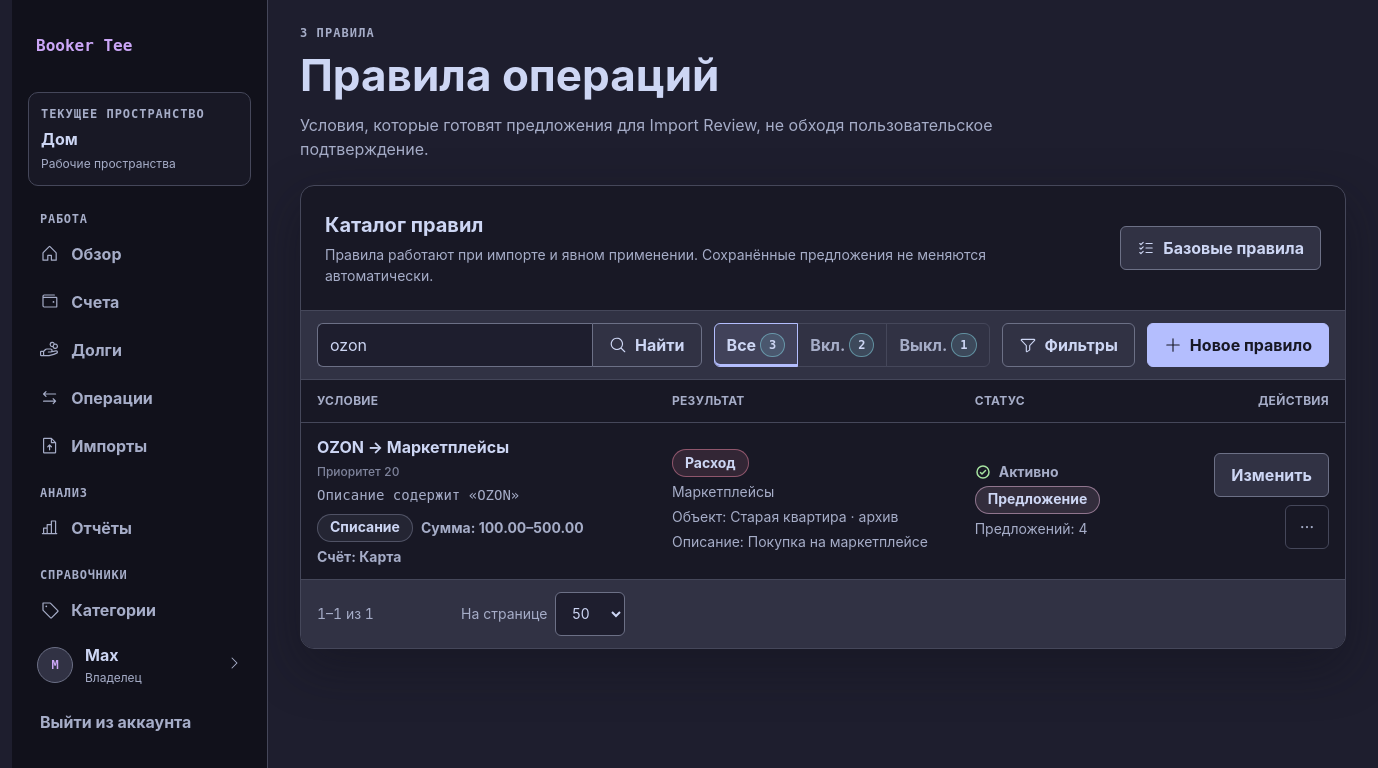
TransactionRulesPage › disables future matching, preserves existing suggestions and keeps list state
Click the button named "Ещё действия" at [1307, 527], box [1285, 505, 1329, 549]
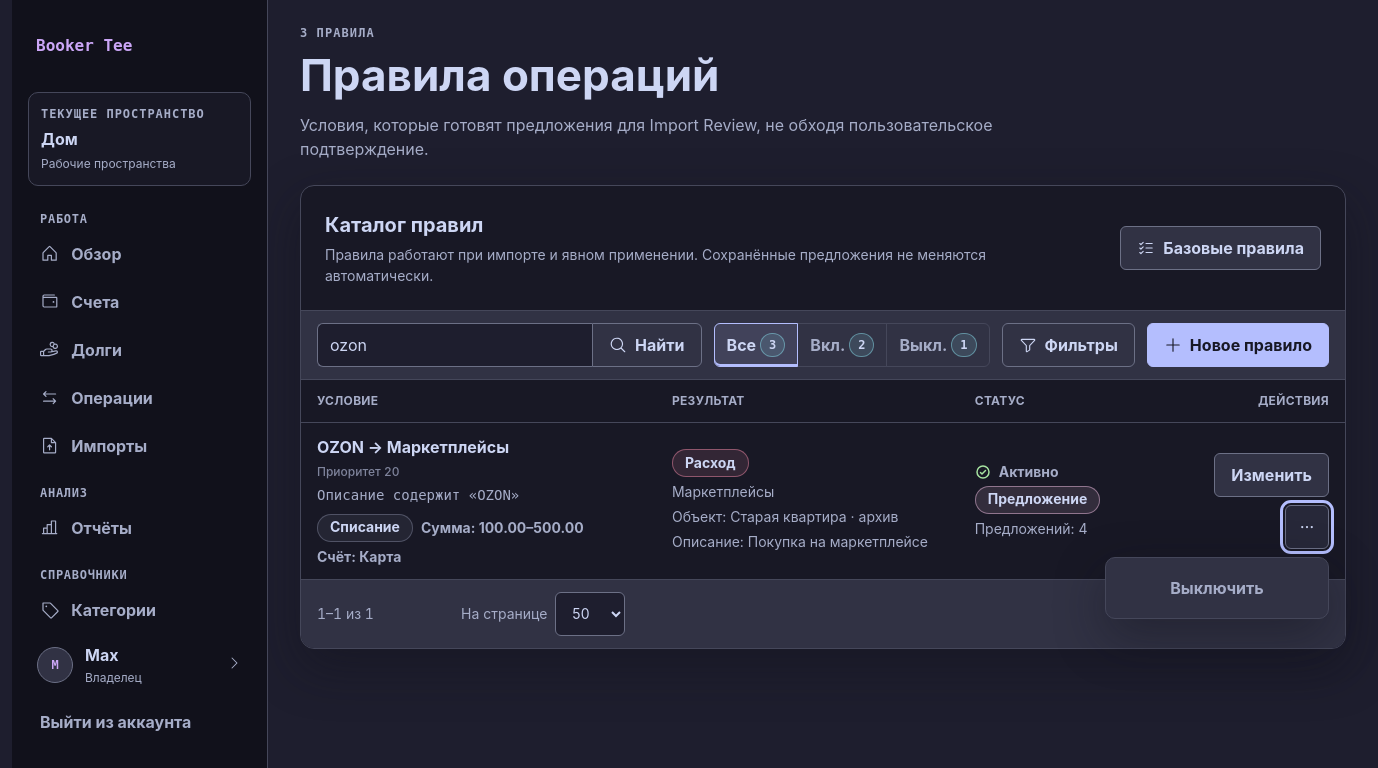
Click the button "Выключить" at [1217, 588], box [1114, 566, 1320, 610]
(page scrolled)
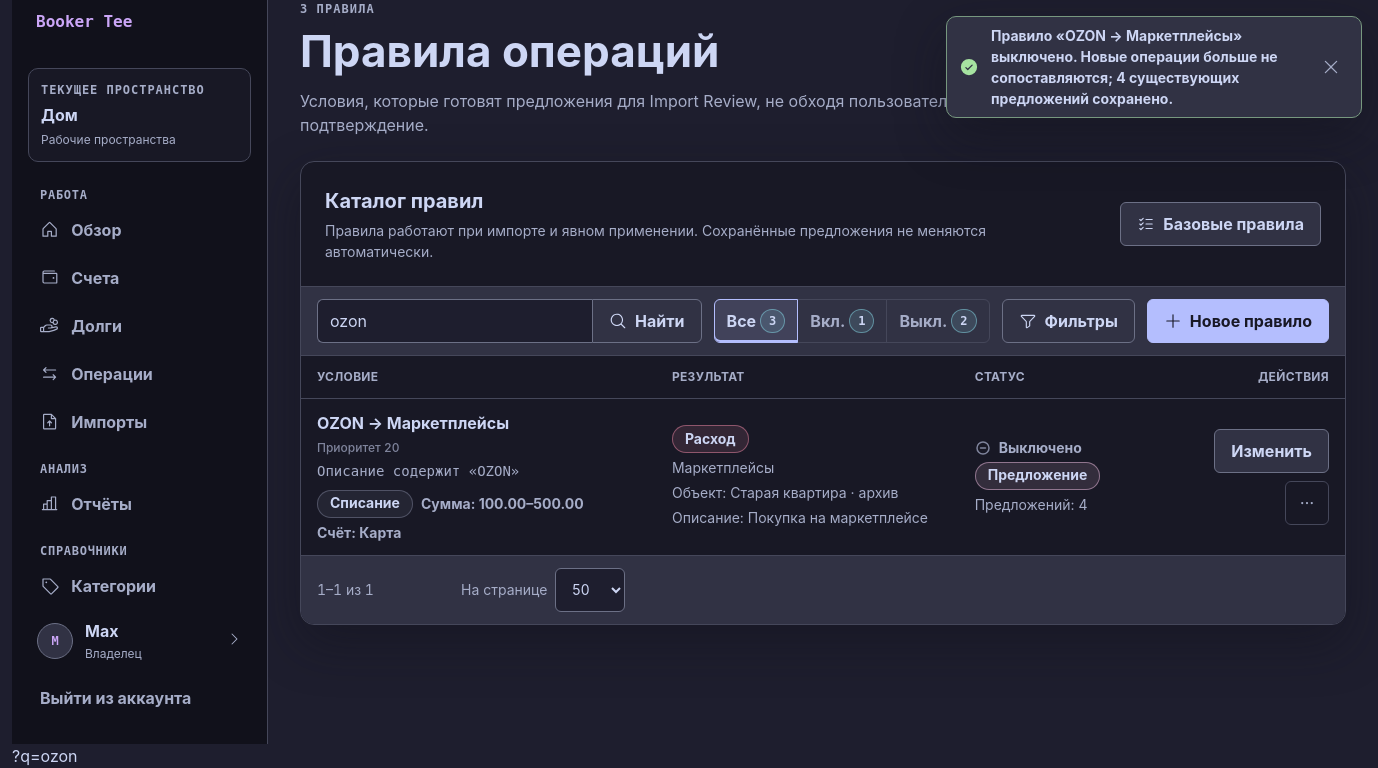
Expected: the text with test id "location" reads "?q=ozon", [12, 746, 78, 766]
Expected: the text "Новые операции больше не сопоставляются; 4 существующих предложений сохранено" is shown, [991, 27, 1278, 107]
Expected: the button named "Ещё действия" is collapsed, [1285, 481, 1329, 525]
